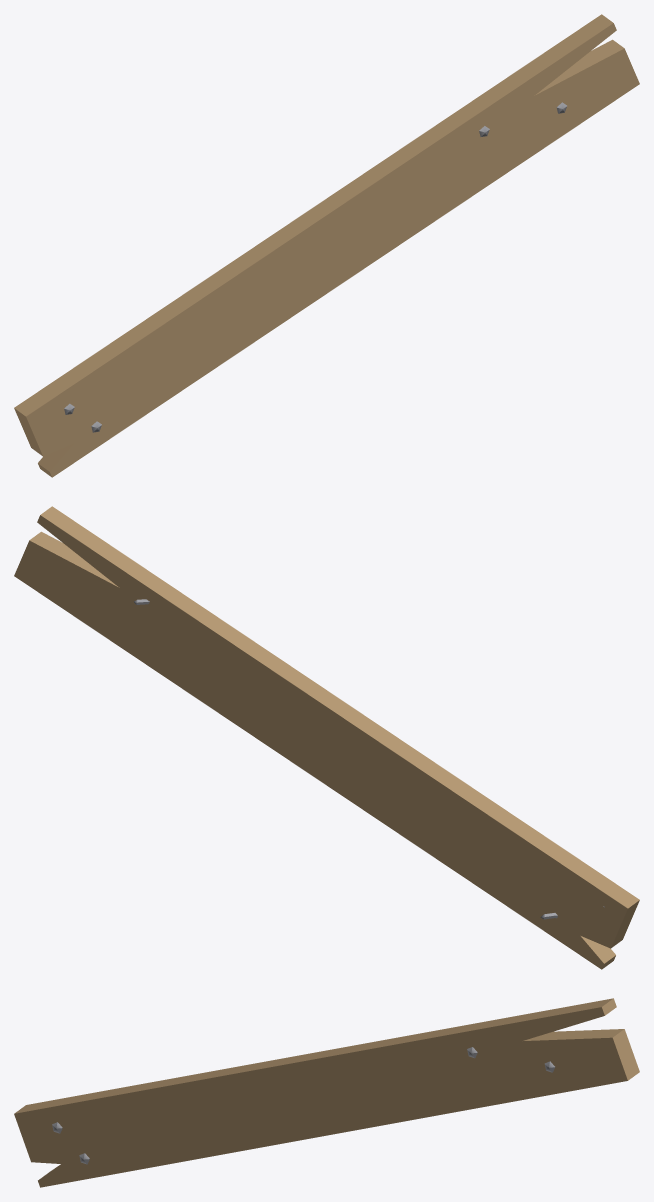
Rendered from VayaMadera.fbx.
3 views of the same model, one above another, from view 1: azimuth 30°, elevation 25°; view 2: azimuth 150°, elevation 25°; view 3: azimuth 330°, elevation 25° (orthographic).
Visible parts, largest first — view 1: polySurface81; view 2: polySurface81; view 3: polySurface81.
Boxes of the visible parts, bbox=[...] form: polySurface81: bbox=[14, 14, 639, 477]; polySurface81: bbox=[14, 506, 639, 969]; polySurface81: bbox=[14, 998, 639, 1187].
Size of the model in its own units: 4.01 by 1.98 by 0.2094.
